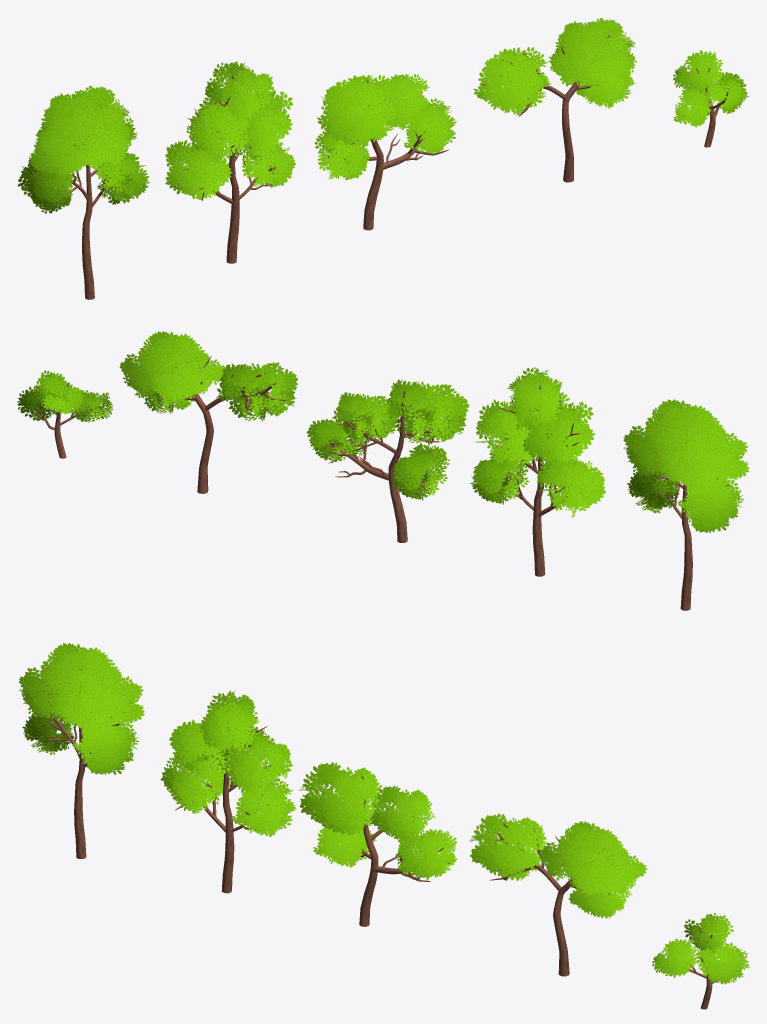
Rendered from arbre_normal.glb.
3 views of the same model, one above another, from view 1: azimuth 30°, elevation 25°; view 2: azimuth 150°, elevation 25°; view 3: azimuth 330°, elevation 25° (orthographic).
Visible parts, largest first — view 1: NormalTree_2, NormalTree_1, NormalTree_3, NormalTree_4, NormalTree_5; view 2: NormalTree_2, NormalTree_1, NormalTree_3, NormalTree_4, NormalTree_5; view 3: NormalTree_2, NormalTree_1, NormalTree_3, NormalTree_4, NormalTree_5.
Boxes of the visible parts, bbox=[...] form: NormalTree_2: bbox=[165, 61, 295, 263]; NormalTree_1: bbox=[17, 85, 149, 299]; NormalTree_3: bbox=[314, 74, 456, 230]; NormalTree_4: bbox=[473, 18, 636, 182]; NormalTree_5: bbox=[673, 50, 749, 147]; NormalTree_2: bbox=[470, 367, 605, 576]; NormalTree_1: bbox=[623, 399, 749, 610]; NormalTree_3: bbox=[306, 379, 469, 542]; NormalTree_4: bbox=[119, 331, 297, 493]; NormalTree_5: bbox=[17, 370, 112, 458]; NormalTree_2: bbox=[160, 690, 296, 893]; NormalTree_1: bbox=[19, 643, 144, 858]; NormalTree_3: bbox=[298, 762, 457, 926]; NormalTree_4: bbox=[469, 813, 647, 976]; NormalTree_5: bbox=[652, 913, 749, 1009].
Bounding box in the file's own units: 24.93 × 6.87 × 3.
Materials: 2 (2 with a texture image).
